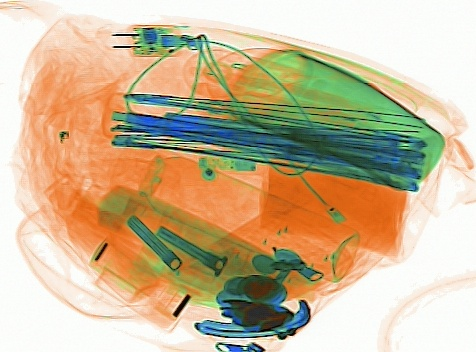pressure: (109, 154, 360, 284)
